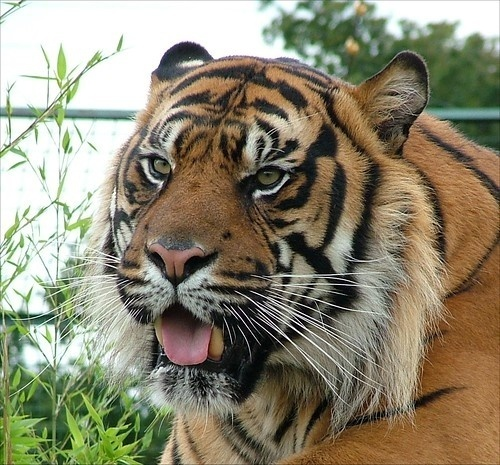tigre: (65, 36, 495, 465)
